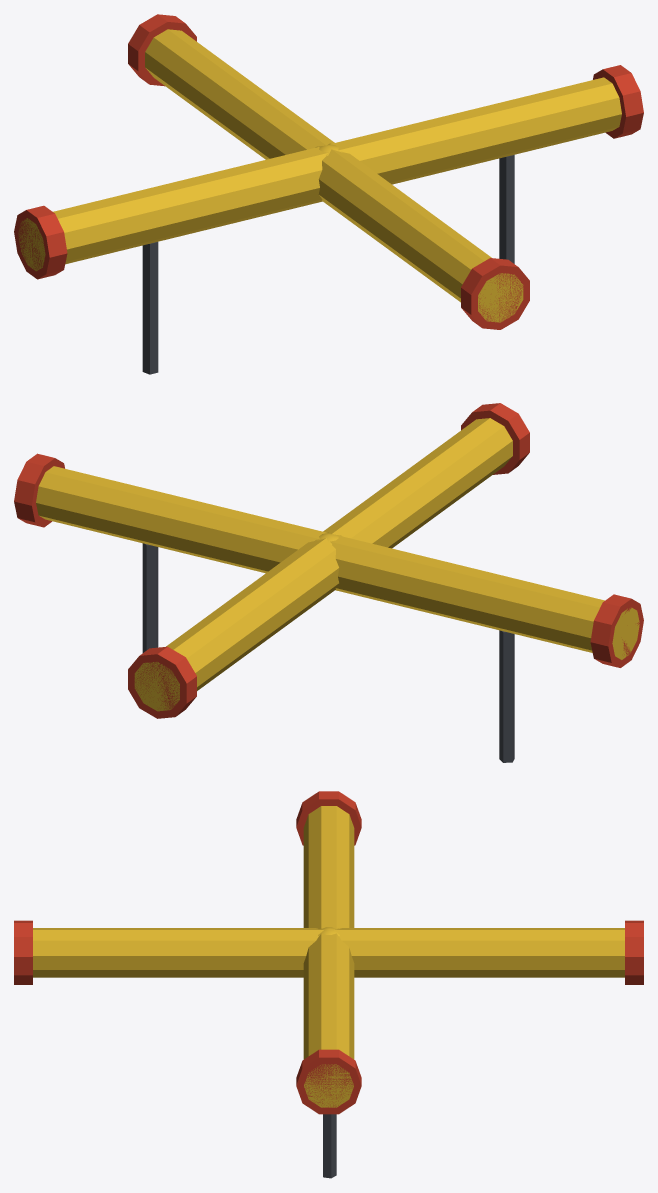
File: PipeG_Cross.fbx
3 views of the same model, one above another, from view 1: azimuth 30°, elevation 25°; view 2: azimuth 150°, elevation 25°; view 3: azimuth 270°, elevation 25° (orthographic). The views are drawn at different scales.
Visible parts, largest first — view 1: PipeG_Cross_Body; view 2: PipeG_Cross_Body; view 3: PipeG_Cross_Body.
Boxes of the visible parts, box(x1,y1,x2,y2) form: PipeG_Cross_Body: box(14, 14, 643, 374); PipeG_Cross_Body: box(14, 403, 643, 762); PipeG_Cross_Body: box(14, 791, 643, 1178).
Bounding box in the file's own units: 1 × 0.302 × 1.
